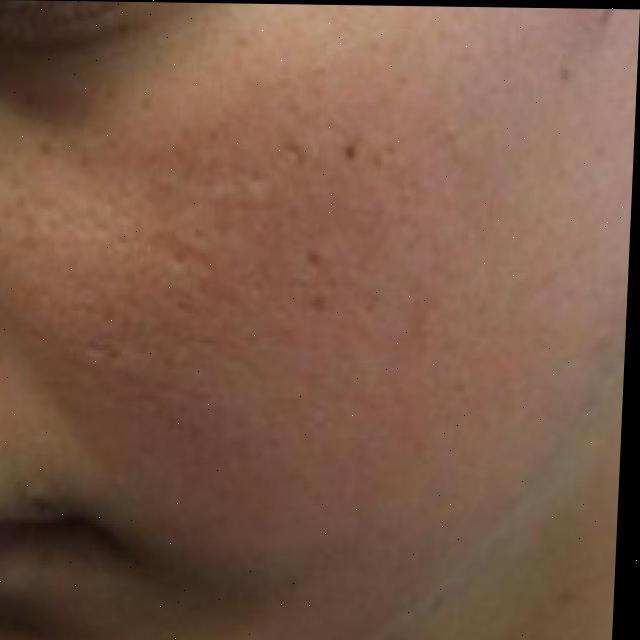Acne: (90, 82, 504, 517)
